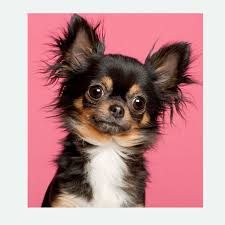chihuahua: (42, 13, 189, 207)
